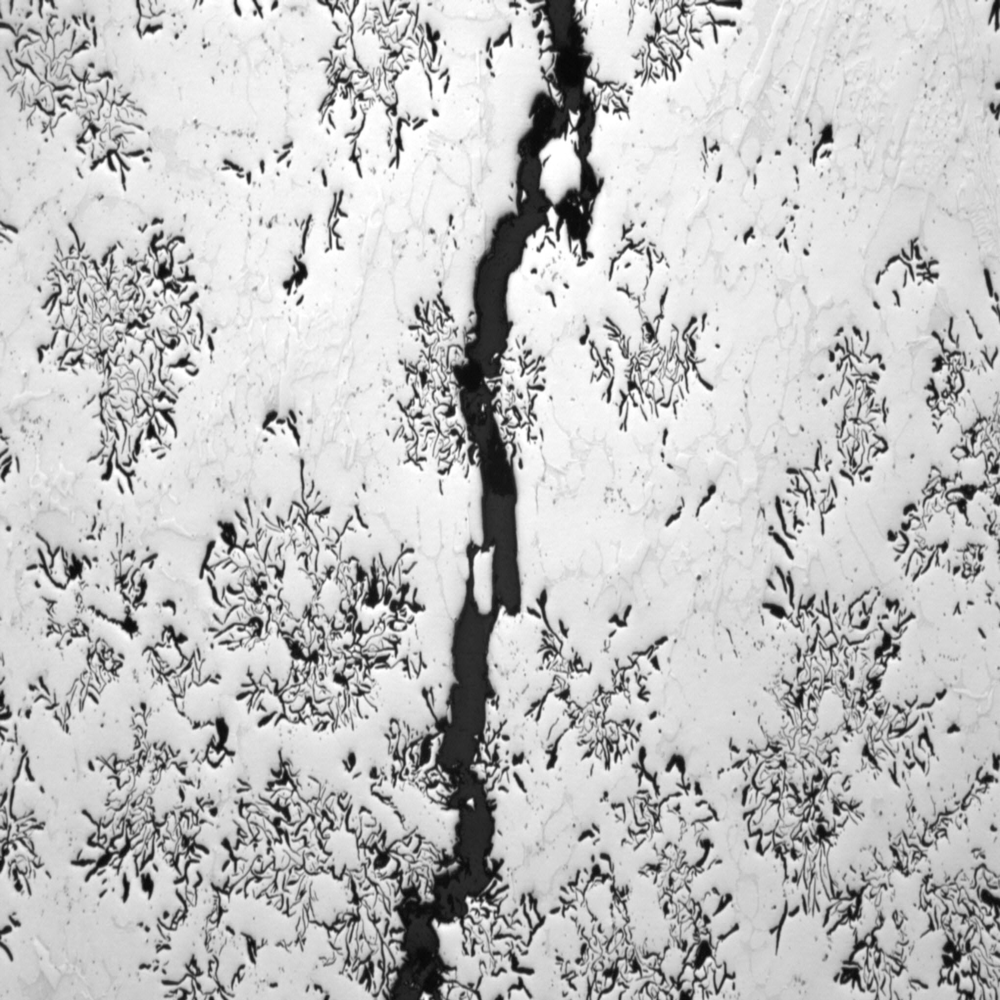crack: (320, 1, 663, 994), (3, 4, 313, 997), (744, 265, 993, 987)
